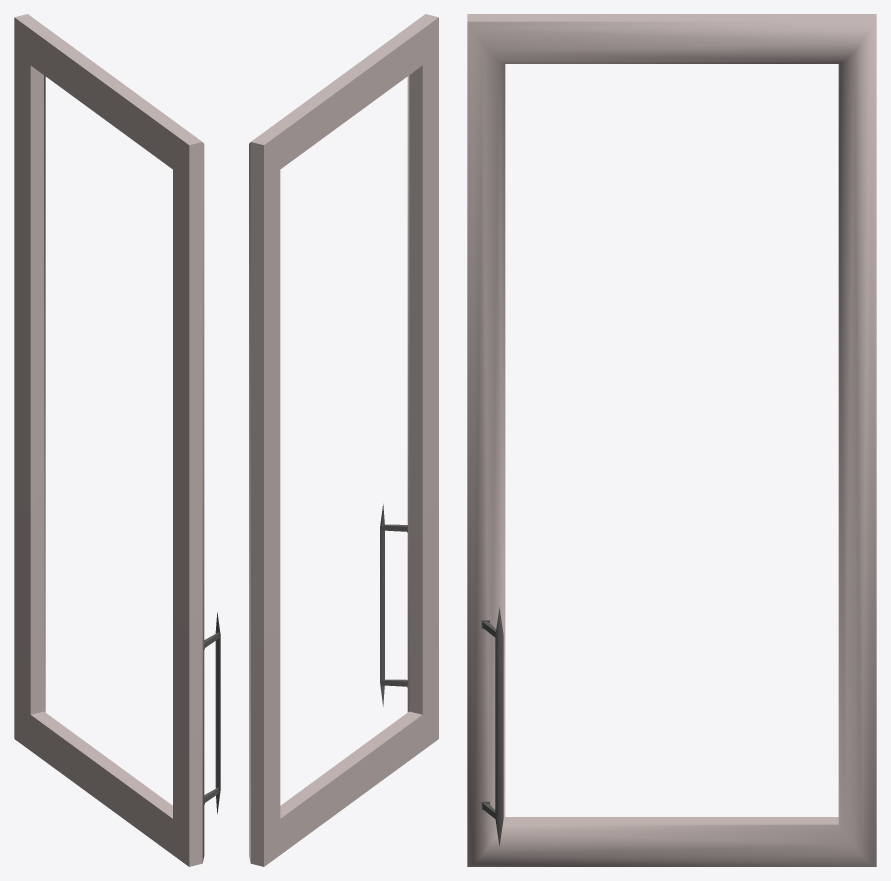
Rendered from kitchencupboard_doorWindow_R.glb.
3 views of the same model, side by side, from view 1: azimuth 30°, elevation 25°; view 2: azimuth 150°, elevation 25°; view 3: azimuth 270°, elevation 25° (orthographic). The views are drawn at different scales.
Parts seen in each view (by area): view 1: RC_Furn_CabinetTopShelfDoor2; view 2: RC_Furn_CabinetTopShelfDoor2; view 3: RC_Furn_CabinetTopShelfDoor2.
Part boxes in pixels (x1=…): RC_Furn_CabinetTopShelfDoor2: x1=14, y1=14, x2=220, y2=866; RC_Furn_CabinetTopShelfDoor2: x1=249, y1=14, x2=438, y2=866; RC_Furn_CabinetTopShelfDoor2: x1=467, y1=14, x2=876, y2=866.
Size of the model in its own units: 0.1559 by 2.38 by 1.04.
Materials: 1 (1 with a texture image).
